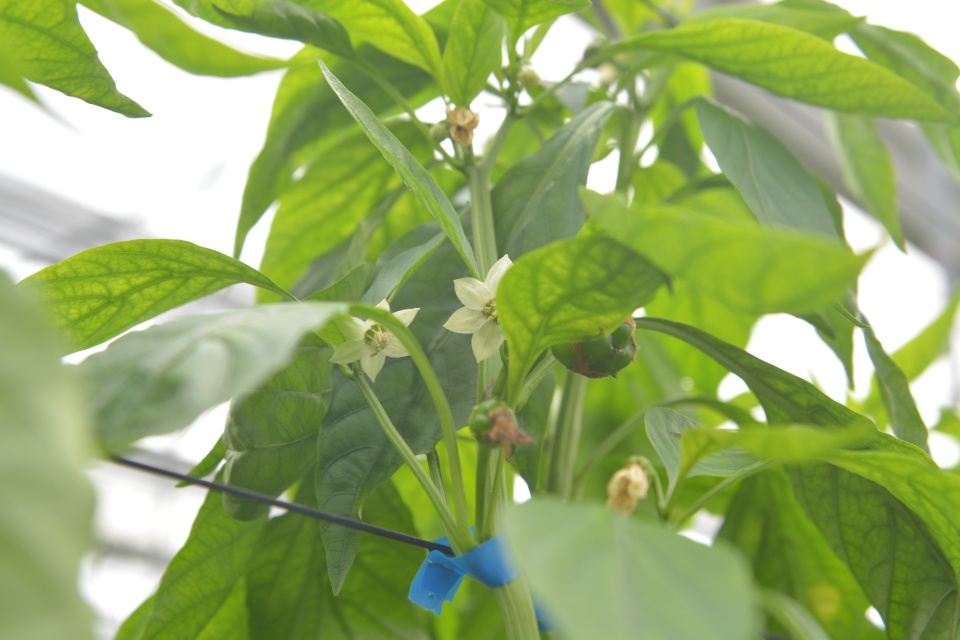flower: (324, 295, 426, 384), (440, 250, 516, 365)
immature: (549, 314, 638, 381), (465, 394, 536, 465)
